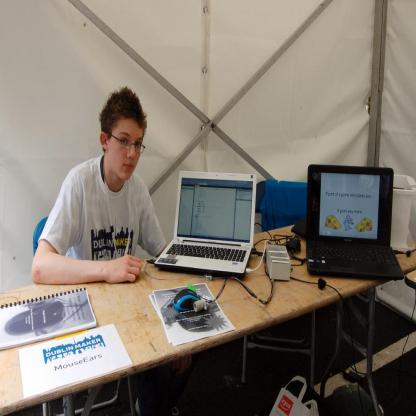board: (154, 173, 257, 285), (308, 163, 404, 277)
